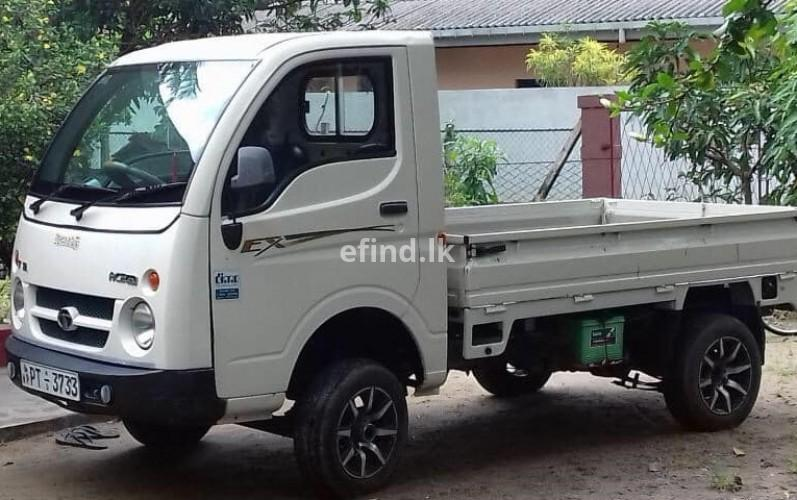truck: (7, 31, 797, 496)
